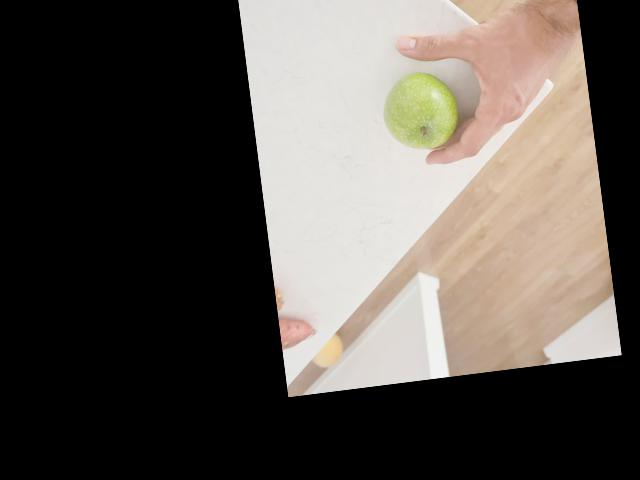apple: (383, 68, 455, 152)
